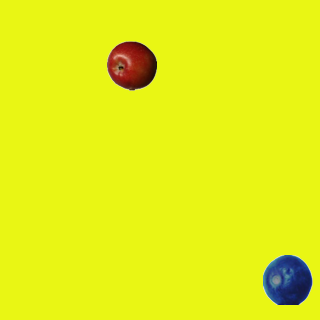Apple Braeburn: (106, 40, 156, 90)
Huckleberry: (262, 254, 312, 304)
